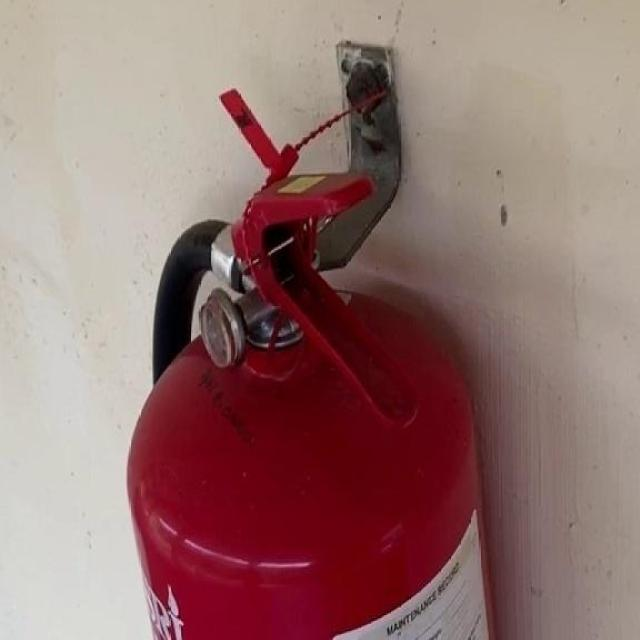fire_extinguisher: (117, 82, 505, 638)
